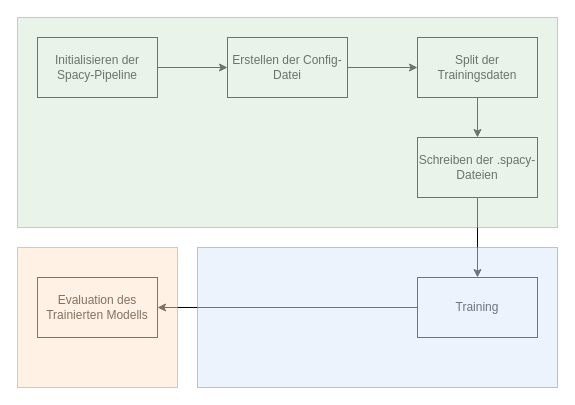
Some shapes in this 575 by 405 pixel diagram are drawn without their labels. Here are the shapes that lost their labels. From the top down, the box of each, then its label:
(16, 16, 558, 228): Vorbereitungsphase
(16, 246, 178, 388): Evaluierungsphase
(196, 246, 558, 388): Trainingsphase
